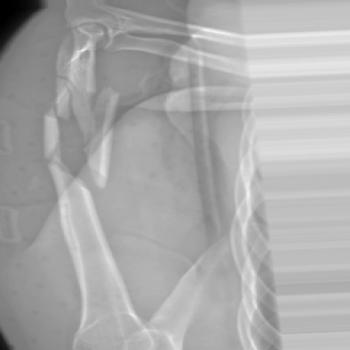Fracture: (36, 70, 128, 195)
